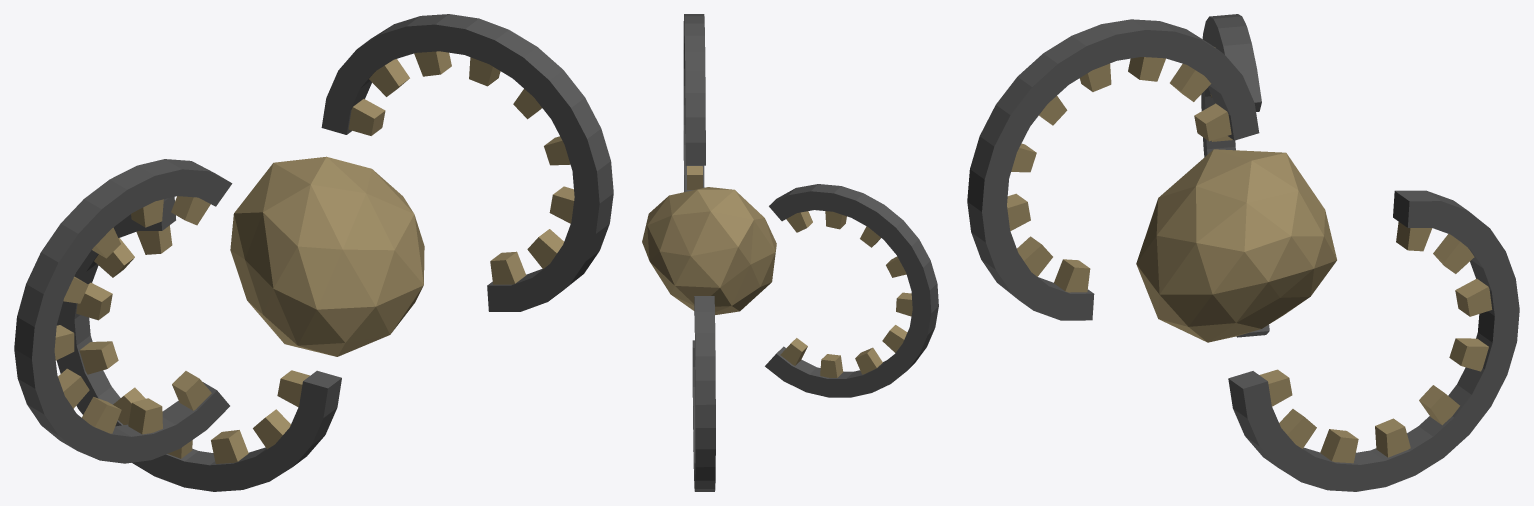
File: 1_3art.fbx
3 views of the same model, side by side, from view 1: azimuth 30°, elevation 25°; view 2: azimuth 150°, elevation 25°; view 3: azimuth 270°, elevation 25° (orthographic). The views are drawn at different scales.
Parts seen in each view (by area): view 1: Cube.009; view 2: Cube.009; view 3: Cube.009.
Part boxes in pixels (bbox=[...]): Cube.009: bbox=[14, 14, 613, 491]; Cube.009: bbox=[642, 14, 938, 491]; Cube.009: bbox=[967, 14, 1519, 491].
Size of the model in its own units: 161 by 168 by 160.
